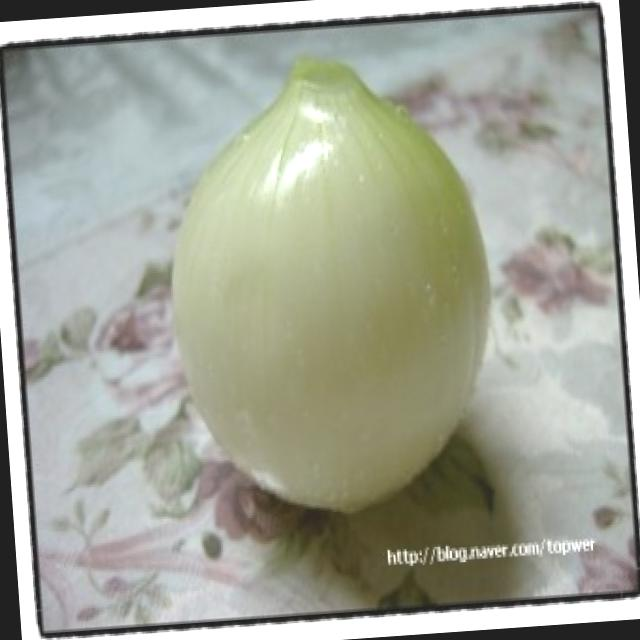onion: (136, 28, 524, 552)
